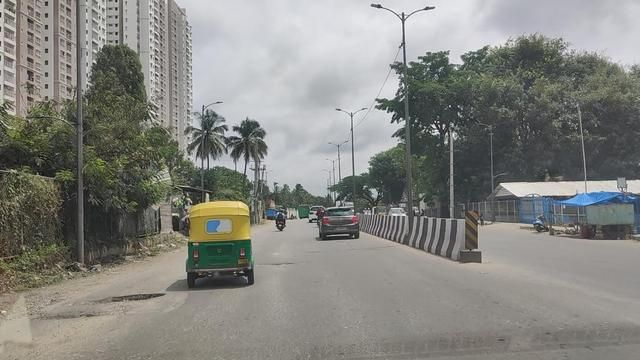LMV: (186, 203, 252, 280), (320, 207, 358, 238), (275, 208, 286, 232)
RoadDamages: (31, 305, 125, 340), (95, 289, 166, 305), (255, 255, 301, 273)
